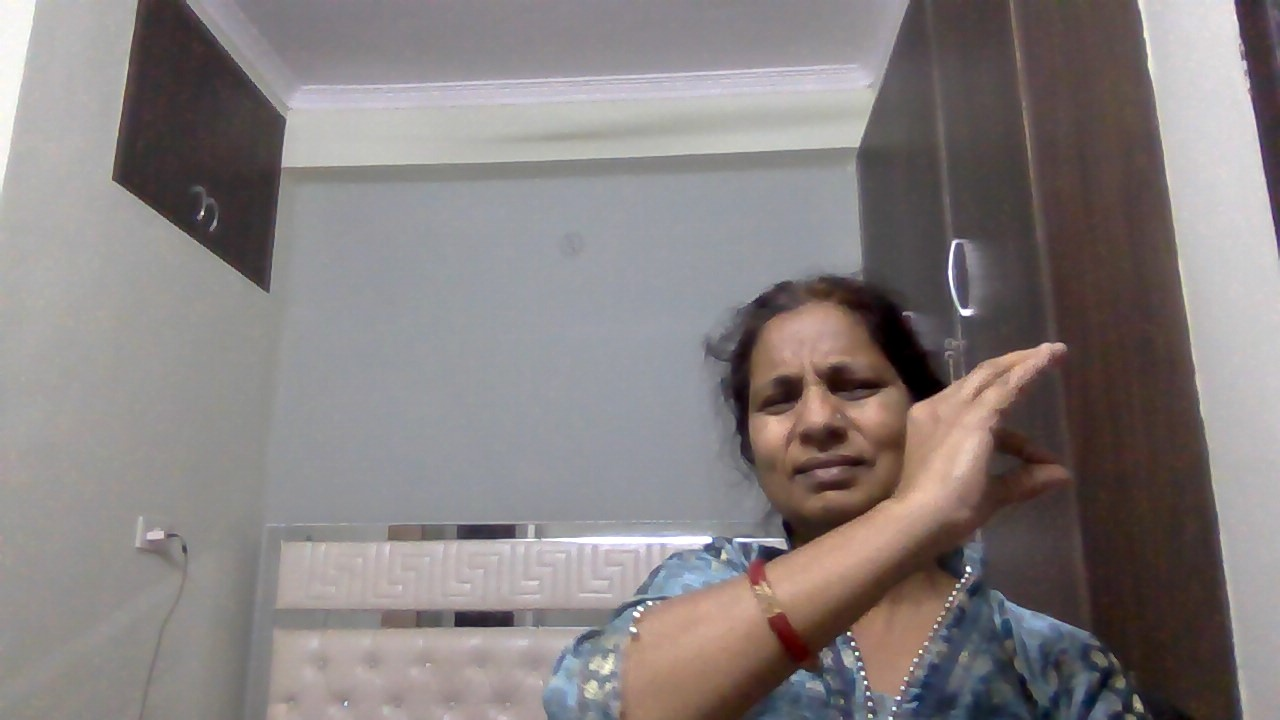Copy: (887, 334, 1096, 572)
